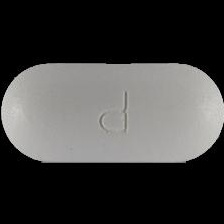16590-054: (0, 0, 224, 224)
